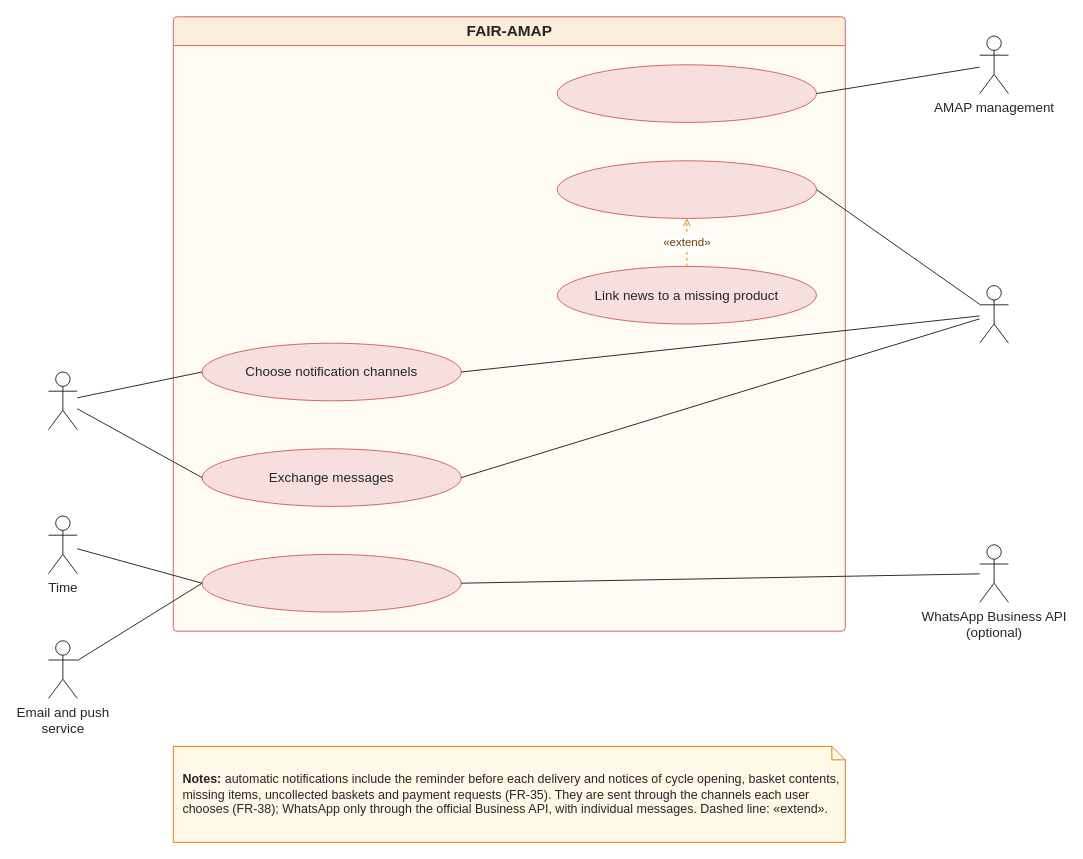
Some shapes in this 1083 by 859 pixel diagram are drawn without their labels. Here are the shapes that lost their labels. From the top down, the box of each, then its label:
(556, 64, 816, 122): Send notice to members or a group
(556, 160, 816, 218): Post production news
(979, 285, 1008, 343): Producer
(48, 371, 77, 430): Co-producer
(201, 553, 461, 612): Send automatic notifications
